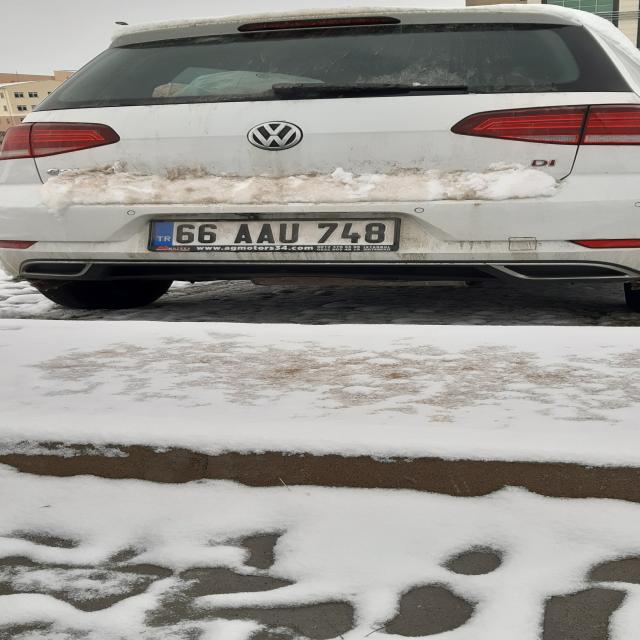plate: (150, 220, 398, 245)
